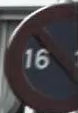No waiting: (6, 7, 75, 105)
